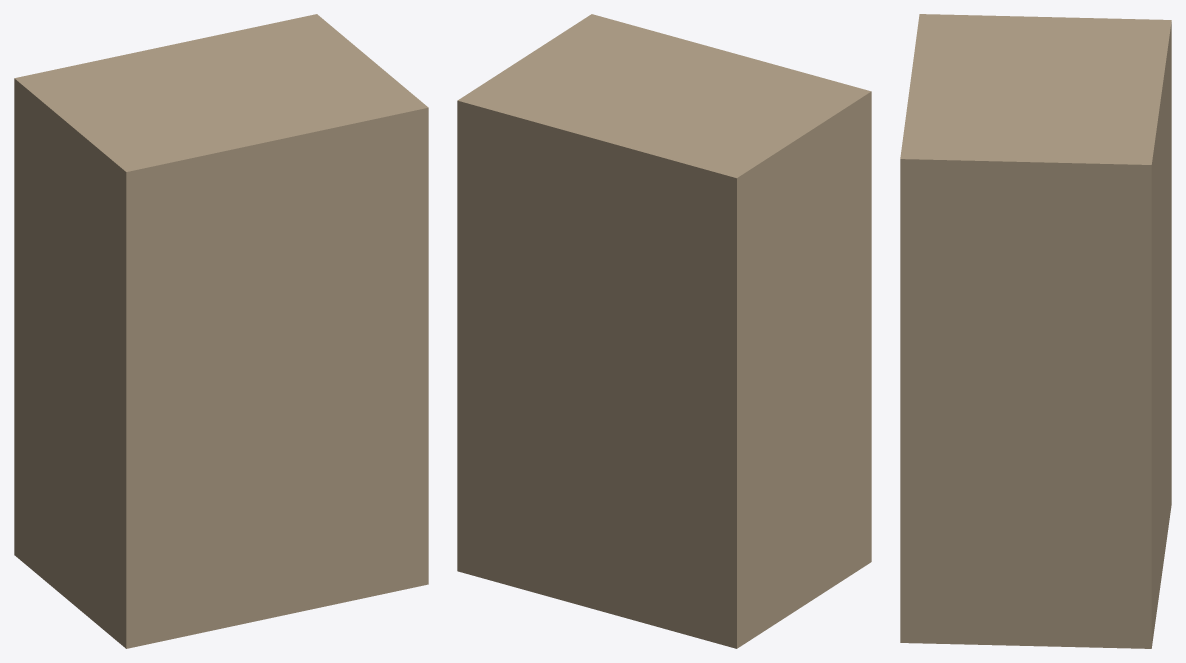
Rendered from bld_99739266.dae.
The picture shows the model from 3 angles, left to right: view 1: azimuth 30°, elevation 25°; view 2: azimuth 150°, elevation 25°; view 3: azimuth 270°, elevation 25°; orthographic projection. The views are drawn at different scales.
Visible parts, largest first — view 1: bld_99739266; view 2: bld_99739266; view 3: bld_99739266.
Boxes of the visible parts, box(x1,y1,x2,y2) form: bld_99739266: box(14, 14, 428, 648); bld_99739266: box(457, 14, 871, 648); bld_99739266: box(900, 14, 1171, 648).
Size of the model in its own units: 5.36 by 4.07 by 8.
